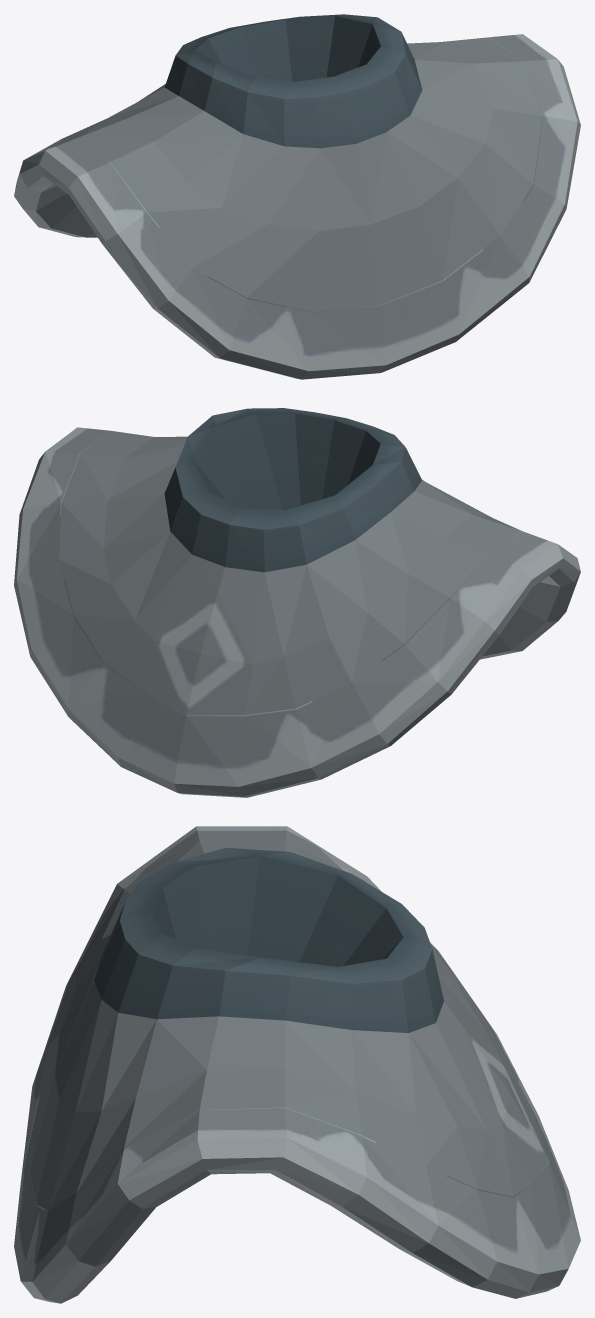
File: NPC_CivilianMaleShoulder.glb
The picture shows the model from 3 angles, top to bottom: view 1: azimuth 30°, elevation 25°; view 2: azimuth 150°, elevation 25°; view 3: azimuth 270°, elevation 25°; orthographic projection. The views are drawn at different scales.
Parts seen in each view (by area): view 1: NPC_CivilianMaleShoulder; view 2: NPC_CivilianMaleShoulder; view 3: NPC_CivilianMaleShoulder.
Part boxes in pixels (x1,y1,x2,y2): NPC_CivilianMaleShoulder: [14, 14, 580, 379]; NPC_CivilianMaleShoulder: [14, 408, 580, 797]; NPC_CivilianMaleShoulder: [14, 826, 580, 1303].
Size of the model in its own units: 4.1 by 2.13 by 3.04.
1 material, 1 textured.
